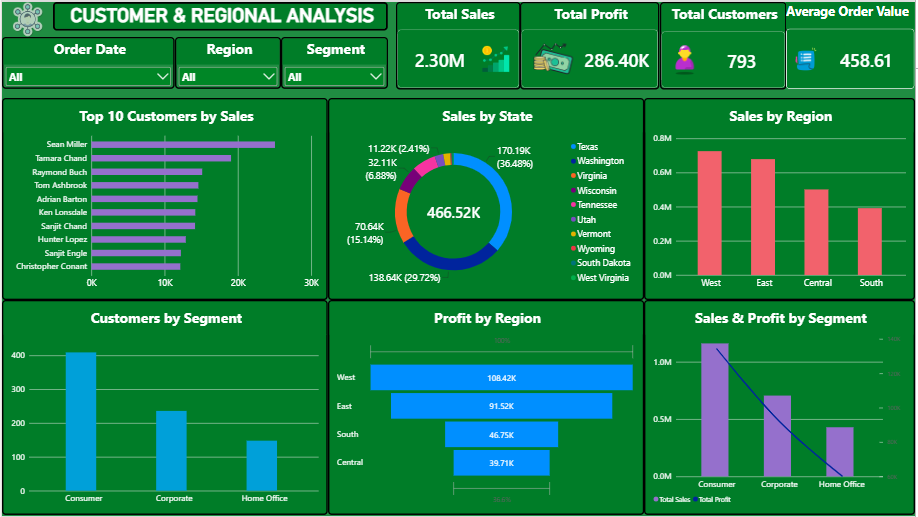

The page's visual inventory and layout, read from the dashboard file:
{"tool":"powerbi","page":{"name":"Customer & Regional Analysis","canvas":[1920,1080],"ordinal":3},"visuals":[{"type":"cardVisual","title":"Total Customers","fields":{"Data":["Superstore.Total Customers"]},"box":[1383.2,0,266.3,183.7],"z":0},{"type":"cardVisual","title":"Total Sales","fields":{"Data":["Superstore.Total Sales"]},"box":[827.9,0,262.2,183.7],"z":1000},{"type":"cardVisual","title":"Total Profit","fields":{"Data":["Superstore.Total Profit"]},"box":[1090.1,0,293.2,183.7],"z":2000},{"type":"cardVisual","title":"Average Order Value","fields":{"Data":["Superstore.Average Order Value"]},"box":[1649.5,0,270.5,183.7],"z":3000},{"type":"slicer","title":"Order Date","fields":{"Values":["Superstore.Order Date"]},"box":[0,74.3,363.4,109.4],"z":4000},{"type":"slicer","title":"Region","fields":{"Values":["Superstore.Region"]},"box":[363.4,74.3,223,109.4],"z":5000},{"type":"slicer","title":"Segment","fields":{"Values":["Superstore.Segment"]},"box":[586.3,74.3,225,109.4],"z":6000},{"type":"clusteredBarChart","title":"Top 10 Customers by Sales","fields":{"Category":["Superstore.Customer Name"],"Y":["Superstore.Total Sales"]},"box":[0,202.3,685.4,425.3],"z":7000},{"type":"clusteredColumnChart","title":"Sales by Region","fields":{"Category":["Superstore.Region"],"Y":["Superstore.Total Sales"]},"box":[1350.2,202.3,569.8,425.3],"z":8000},{"type":"funnel","title":"Profit by Region","fields":{"Category":["Superstore.Region"],"Y":["Superstore.Total Profit"]},"box":[685.4,627.6,664.8,452.1],"z":9000},{"type":"donutChart","title":"Sales by State","fields":{"Category":["Superstore.State"],"Y":["Superstore.Total Sales"]},"box":[685.4,202.3,664.8,425.3],"z":10000},{"type":"ribbonChart","title":"Customers by Segment","fields":{"Category":["Superstore.Segment"],"Y":["Superstore.Total Customers"]},"box":[0,627.6,685.4,452.1],"z":11000},{"type":"lineClusteredColumnComboChart","title":"Sales & Profit by Segment","fields":{"Category":["Superstore.Segment"],"Y":["Superstore.Total Sales"],"Y2":["Superstore.Total Profit"]},"box":[1350.2,627.6,569.8,452.1],"z":12000},{"type":"textbox","title":"CUSTOMER & REGIONAL ANALYSIS","box":[107.4,0,704,59.9],"z":13000},{"type":"image","box":[0,0,107.4,74.3],"z":14000}]}

Visuals, with their boxes in screenshot pixels (x1, y1, x2, y2), scaled from the page's 1920x1080 canvas onto the 918x517 screenshot:
"Total Customers" cardVisual: bbox(661, 0, 789, 88)
"Total Sales" cardVisual: bbox(396, 0, 521, 88)
"Total Profit" cardVisual: bbox(521, 0, 661, 88)
"Average Order Value" cardVisual: bbox(789, 0, 917, 88)
"Order Date" slicer: bbox(0, 36, 174, 88)
"Region" slicer: bbox(174, 36, 280, 88)
"Segment" slicer: bbox(280, 36, 388, 88)
"Top 10 Customers by Sales" clusteredBarChart: bbox(0, 97, 328, 300)
"Sales by Region" clusteredColumnChart: bbox(646, 97, 917, 300)
"Profit by Region" funnel: bbox(328, 300, 646, 516)
"Sales by State" donutChart: bbox(328, 97, 646, 300)
"Customers by Segment" ribbonChart: bbox(0, 300, 328, 516)
"Sales & Profit by Segment" lineClusteredColumnComboChart: bbox(646, 300, 917, 516)
"CUSTOMER & REGIONAL ANALYSIS" textbox: bbox(51, 0, 388, 29)
image: bbox(0, 0, 51, 36)
